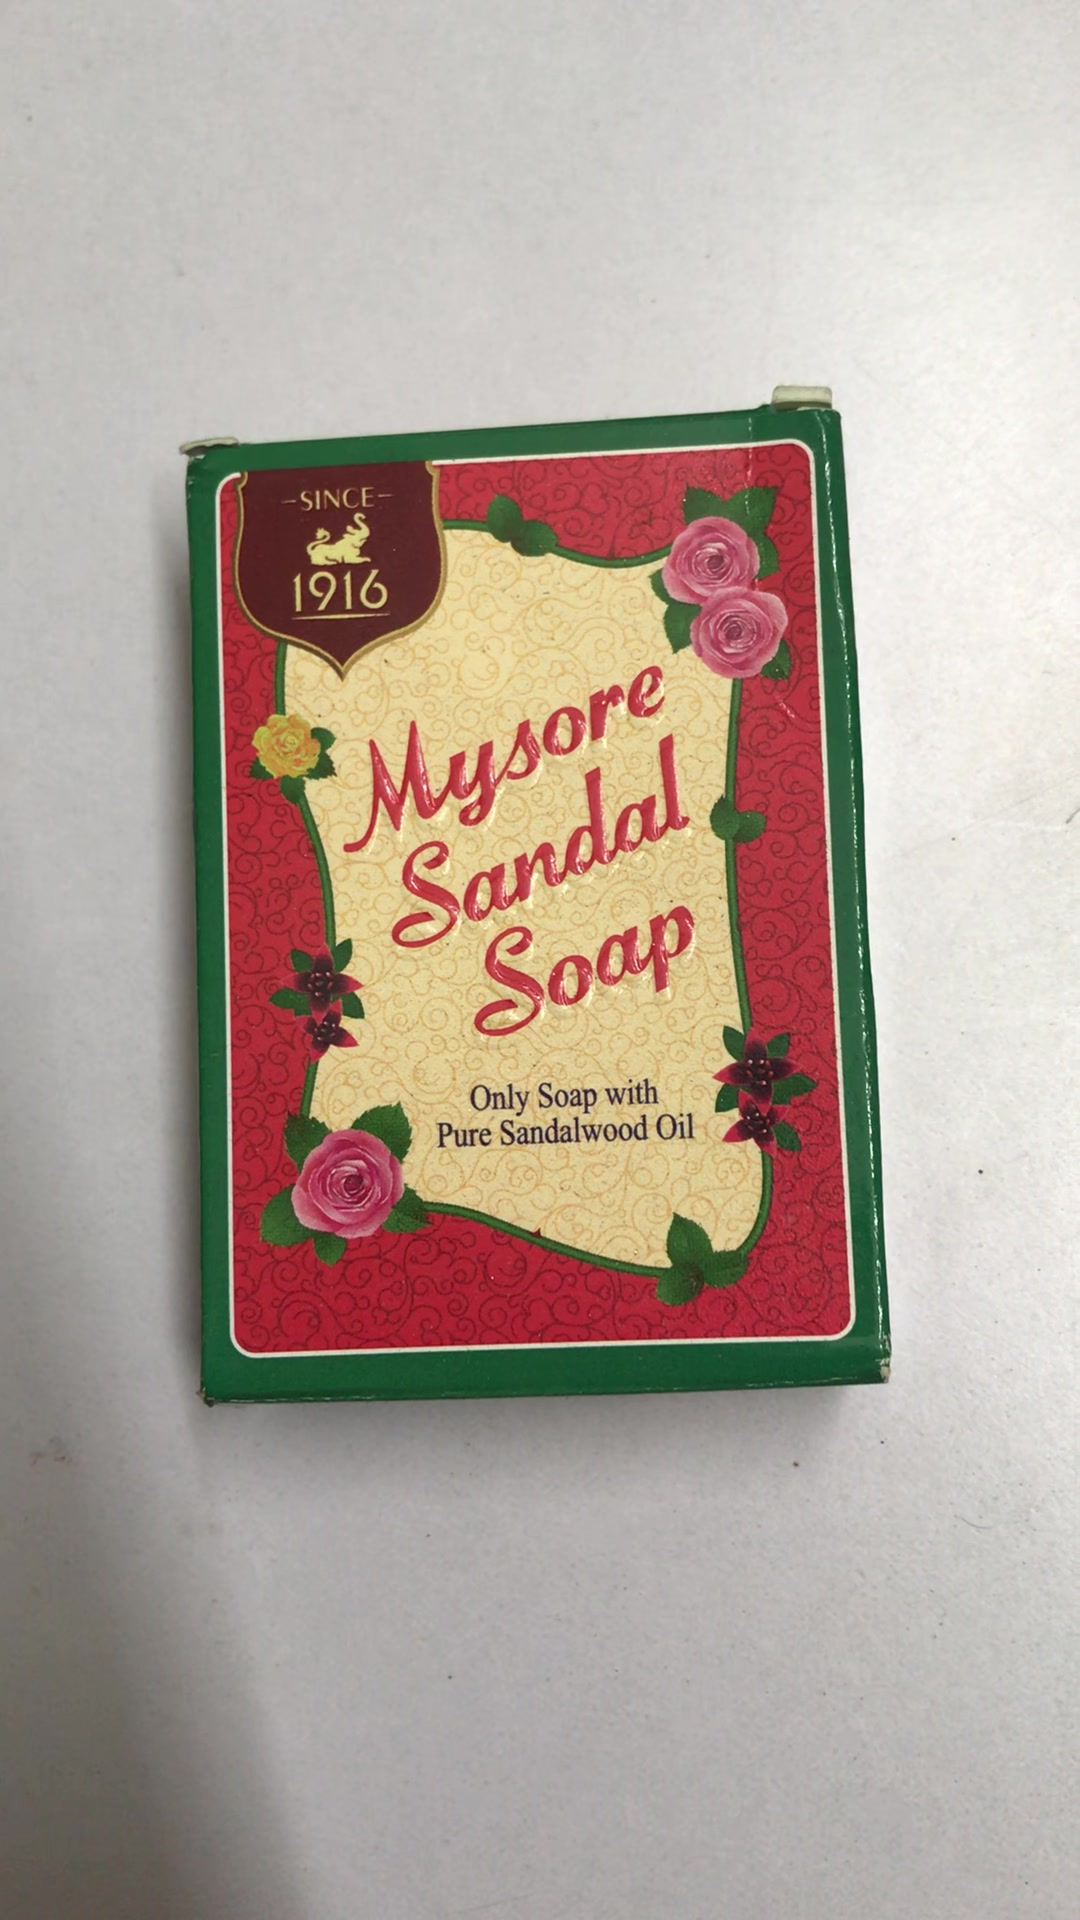mysore sandal soap: (185, 425, 890, 1389)
